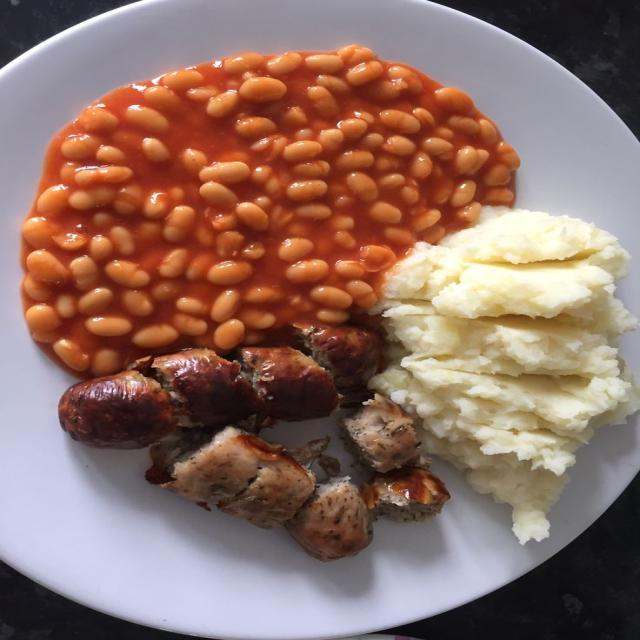beans: (27, 250, 69, 283), (74, 166, 133, 187), (105, 261, 150, 288), (163, 205, 195, 242), (126, 105, 168, 133), (132, 324, 179, 349), (239, 77, 286, 102), (53, 339, 89, 371), (69, 186, 115, 210), (207, 261, 253, 285), (199, 162, 251, 183), (435, 87, 473, 114), (37, 184, 70, 215), (69, 256, 99, 290), (80, 106, 119, 132), (360, 245, 396, 272), (286, 260, 328, 283), (214, 319, 245, 350), (308, 86, 339, 117), (210, 290, 240, 322), (380, 109, 420, 133), (236, 202, 269, 231), (454, 146, 488, 174), (388, 66, 422, 94), (200, 181, 238, 206), (78, 288, 113, 315), (60, 135, 99, 159), (22, 217, 52, 248), (346, 61, 383, 86), (26, 305, 60, 332), (223, 52, 264, 74), (235, 117, 276, 139), (144, 86, 180, 111), (347, 172, 378, 201), (85, 317, 132, 336), (121, 290, 154, 317), (158, 248, 188, 277), (207, 91, 239, 118), (283, 140, 322, 162), (161, 70, 203, 90), (287, 180, 327, 201), (278, 238, 313, 262), (114, 184, 142, 214), (91, 349, 121, 376), (216, 231, 245, 258), (23, 275, 52, 302), (369, 201, 402, 224), (267, 53, 301, 75), (173, 314, 207, 336), (239, 309, 276, 329), (143, 192, 170, 219), (110, 226, 135, 255), (336, 151, 374, 170), (367, 80, 401, 101), (337, 45, 374, 64), (245, 286, 284, 304), (306, 55, 344, 73), (186, 254, 211, 281), (412, 209, 441, 232), (383, 135, 416, 155), (180, 149, 206, 174), (450, 181, 476, 206), (294, 160, 330, 178), (142, 138, 170, 161), (316, 74, 349, 93), (89, 235, 113, 261), (410, 152, 433, 179), (497, 142, 519, 170), (280, 106, 308, 128), (447, 116, 479, 135), (295, 203, 332, 219), (483, 164, 511, 185), (176, 297, 208, 315), (318, 129, 344, 151), (152, 280, 179, 301), (338, 119, 367, 138), (432, 179, 454, 204), (421, 138, 453, 155), (346, 280, 373, 300), (384, 227, 414, 245), (335, 261, 365, 278), (456, 202, 480, 223), (56, 294, 77, 318), (316, 309, 349, 324), (375, 154, 403, 171), (485, 188, 513, 205), (479, 119, 498, 144), (212, 213, 237, 232), (423, 225, 446, 244), (59, 162, 79, 183), (379, 173, 405, 189), (250, 166, 273, 184), (360, 133, 384, 150), (413, 107, 434, 126), (334, 231, 356, 249), (289, 295, 313, 311), (355, 292, 378, 308), (400, 185, 419, 204), (330, 215, 354, 230), (92, 213, 115, 228), (265, 177, 282, 197), (243, 330, 264, 345), (32, 331, 58, 343), (354, 111, 375, 125), (168, 186, 185, 203), (334, 194, 354, 208), (434, 126, 453, 140), (254, 196, 273, 210), (294, 127, 313, 140)
mashed potatoes: (370, 207, 639, 544)
sausage: (161, 426, 315, 528), (58, 370, 177, 448), (148, 348, 257, 426), (240, 346, 341, 421), (285, 476, 372, 561), (296, 326, 380, 405), (343, 393, 418, 471), (363, 466, 450, 521)
